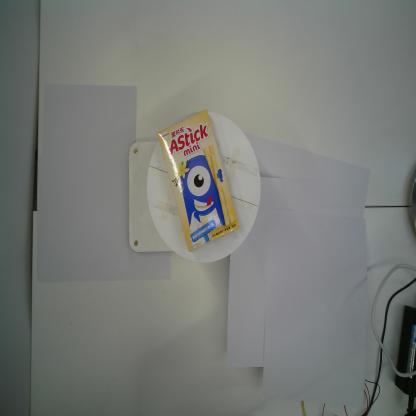Dessert: (157, 108, 240, 254)
